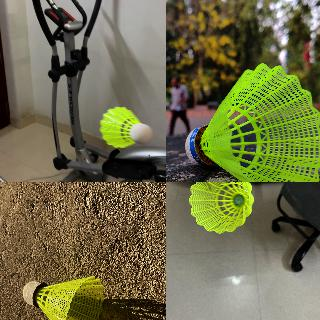shuttlecock: (185, 62, 319, 181), (22, 276, 104, 319), (188, 182, 254, 234), (98, 106, 152, 146)
